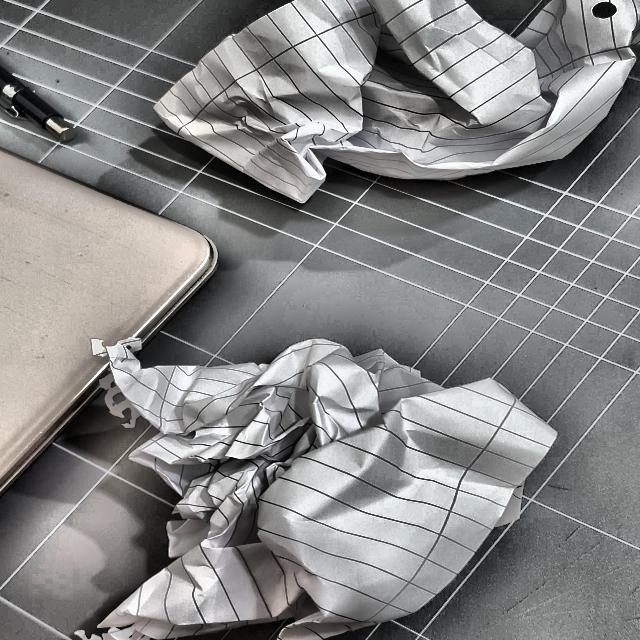paper: (92, 338, 548, 640), (167, 0, 640, 201)
